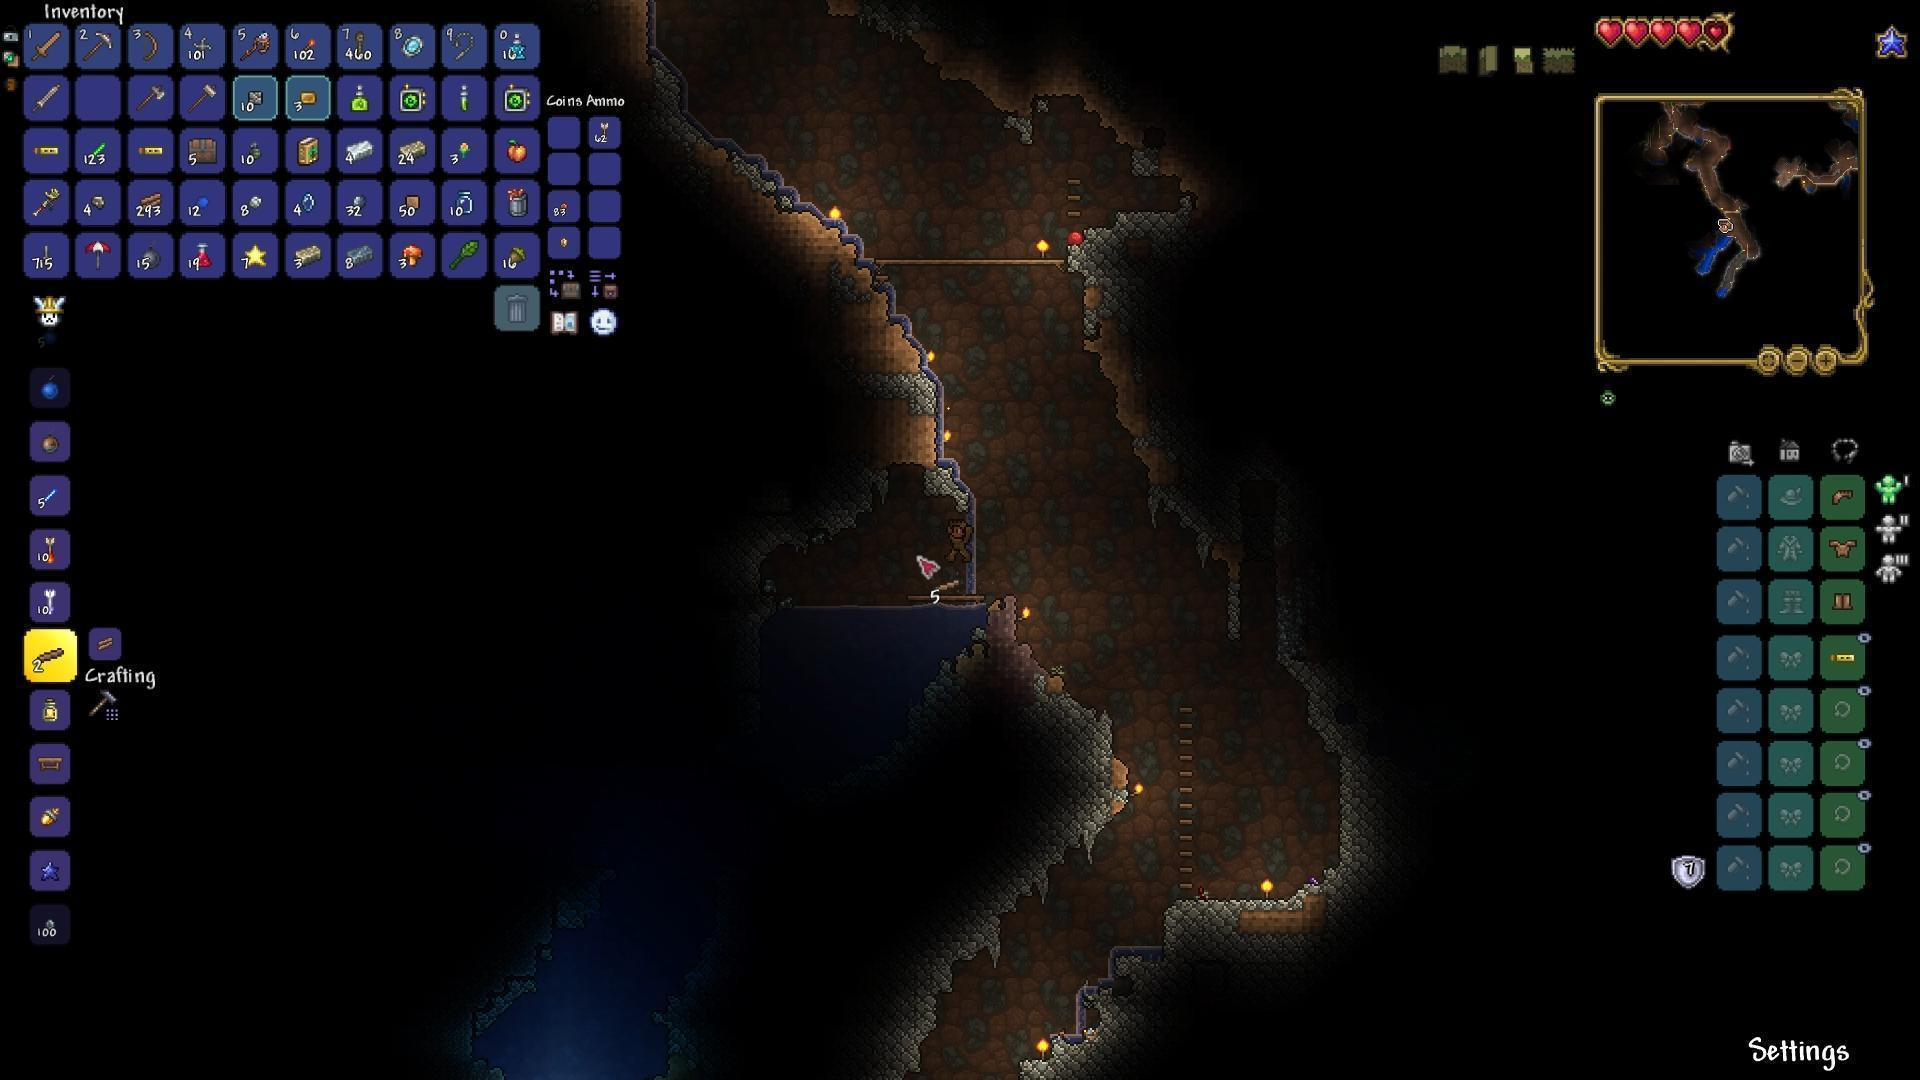arrow: (41, 585, 55, 615), (44, 531, 55, 563)
axe: (136, 83, 169, 112)
bar: (344, 132, 375, 166), (398, 132, 427, 161), (291, 241, 324, 265), (345, 240, 375, 266)
bomb: (141, 240, 162, 269)
bow: (142, 29, 158, 65)
breastplate: (1829, 538, 1857, 559)
gel: (194, 193, 212, 210)
glowstick: (87, 138, 111, 161)
grenade: (249, 138, 262, 162)
helmet: (1830, 487, 1855, 508)
knife: (42, 241, 50, 268)
legs: (1830, 588, 1855, 612)
lens: (301, 187, 319, 215)
ore: (343, 190, 368, 212), (90, 191, 111, 212), (244, 191, 268, 210)
pickaxe: (82, 29, 115, 61)
platform: (1174, 700, 1195, 713), (1179, 800, 1197, 814), (1178, 785, 1195, 798), (1065, 191, 1087, 202), (1176, 749, 1196, 760), (1065, 173, 1083, 185), (1178, 829, 1195, 841), (1178, 880, 1193, 891), (1179, 815, 1196, 825), (1178, 862, 1195, 873), (1179, 849, 1197, 858), (1179, 720, 1195, 731), (1065, 208, 1083, 218), (1178, 736, 1195, 745), (1180, 769, 1197, 778)
recallP: (508, 32, 527, 61)
rope: (355, 26, 368, 61)
shuriken: (191, 36, 214, 58)
star: (244, 239, 268, 269)
wood: (137, 189, 165, 212), (96, 634, 117, 651)
workbench: (36, 754, 63, 771)
